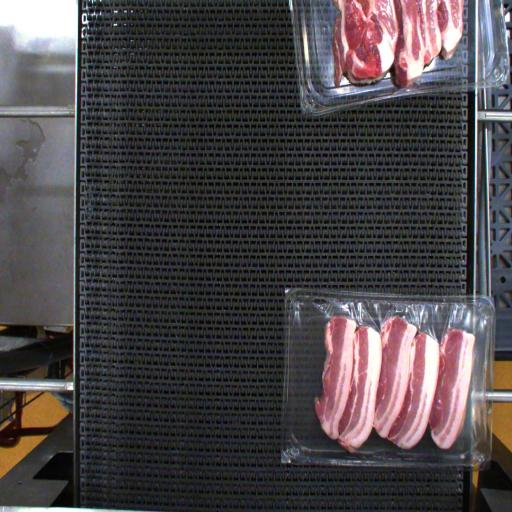unsealed: (292, 296, 488, 448)
